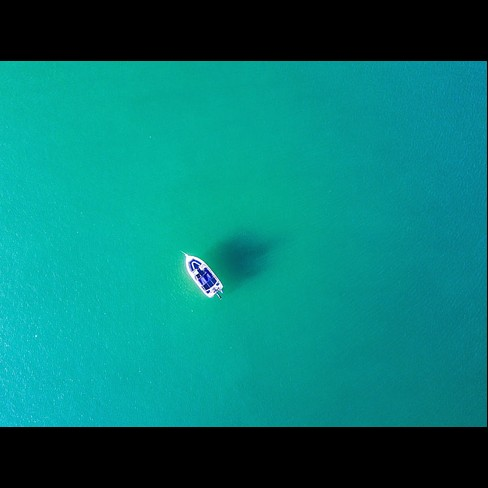boat: (177, 236, 225, 307)
